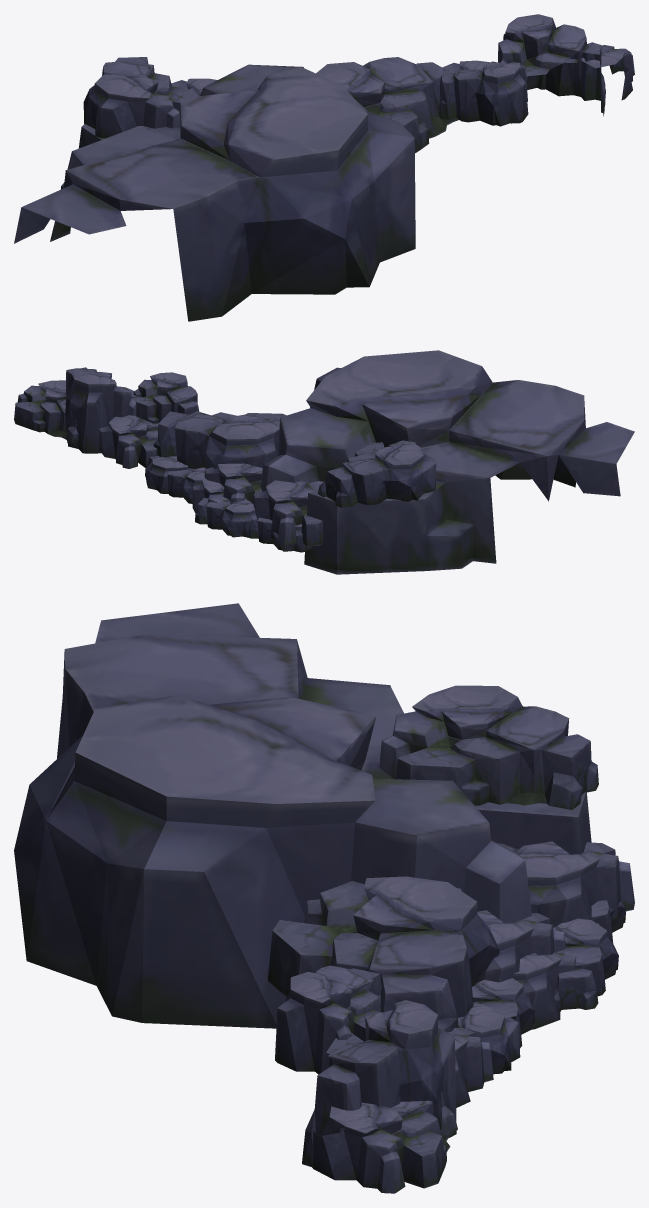
File: Area06_5.fbx
3 renders of one model, top to bottom at view 1: azimuth 30°, elevation 25°; view 2: azimuth 150°, elevation 25°; view 3: azimuth 270°, elevation 25°, orthographic. The views are drawn at different scales.
Visible parts, largest first — view 1: Area06_5; view 2: Area06_5; view 3: Area06_5.
Part boxes in pixels (bbox=[...]): Area06_5: bbox=[14, 14, 634, 321]; Area06_5: bbox=[14, 350, 634, 574]; Area06_5: bbox=[14, 603, 634, 1193].
Size of the model in its own units: 7054 by 1303 by 3712.
